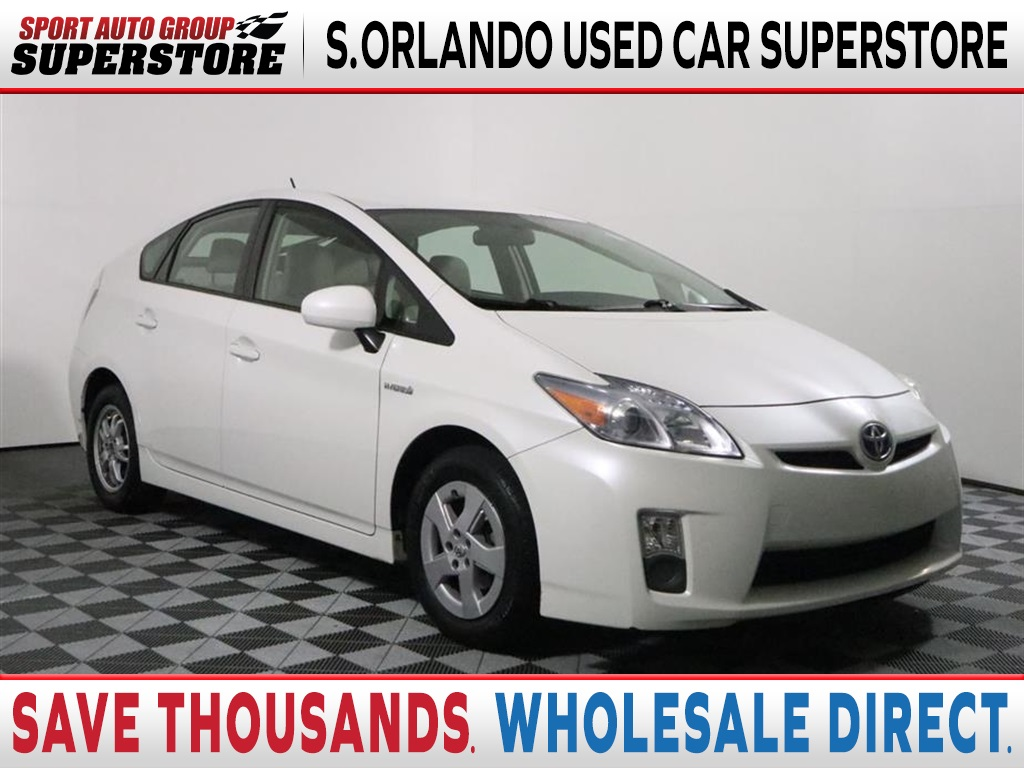Toyota Prius: (61, 181, 969, 654)
